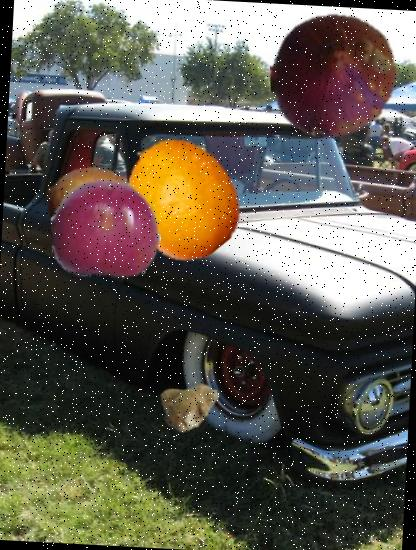Beetroot: (316, 20, 374, 76)
Cherry: (48, 172, 164, 288)
Ginger: (157, 370, 221, 434)
Lemon: (115, 132, 247, 264)
Onion: (268, 10, 400, 142)
Peach: (41, 162, 148, 268)
